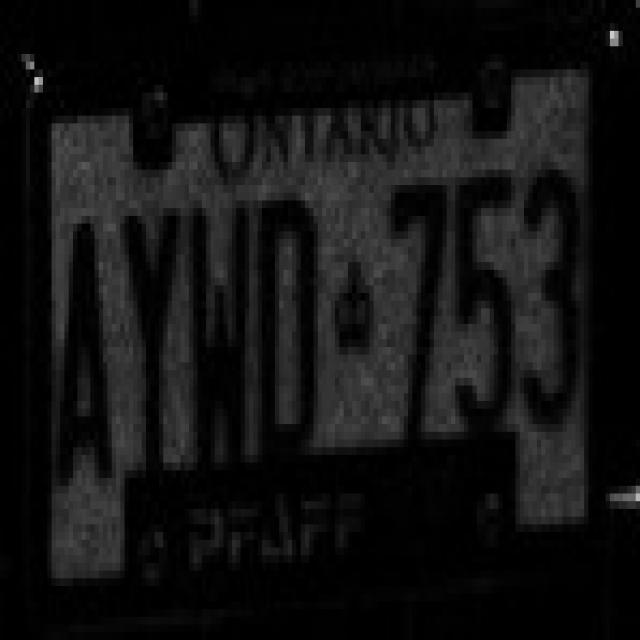licenseplate: (29, 49, 614, 600)
